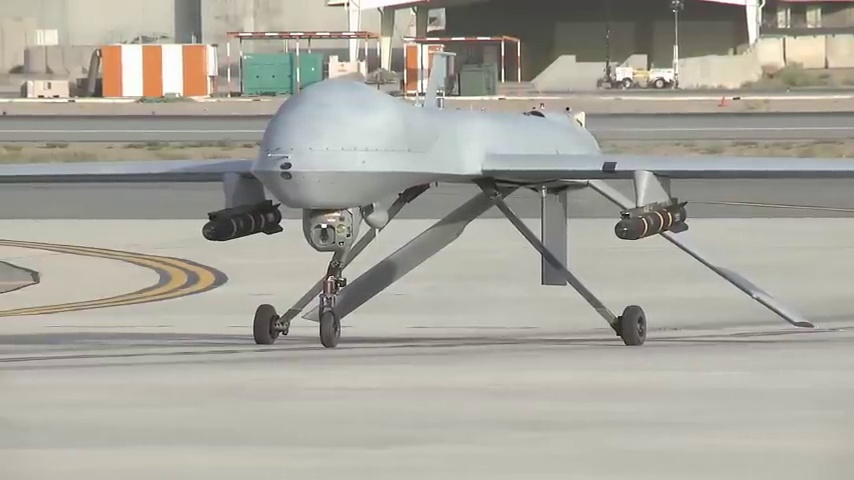military drone: (0, 77, 854, 347)
